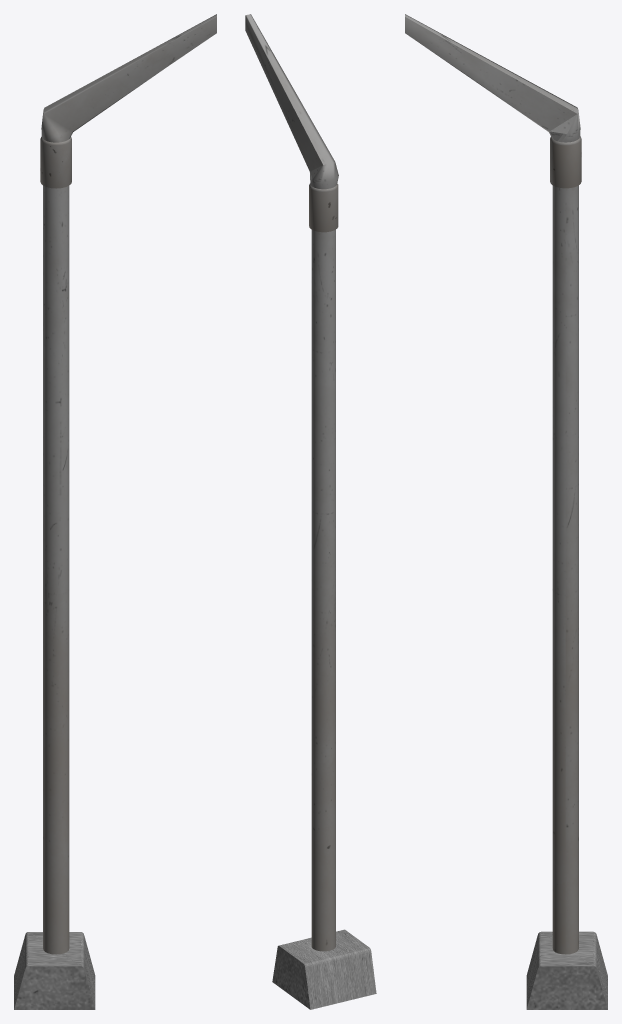
The model's file is chain_singlepost_curb_barbwire.fbx.
3 views of the same model, side by side, from view 1: azimuth 90°, elevation 25°; view 2: azimuth 210°, elevation 25°; view 3: azimuth 270°, elevation 25° (orthographic). The views are drawn at different scales.
Parts seen in each view (by area): view 1: chain_singlepost_curb_barbwire; view 2: chain_singlepost_curb_barbwire; view 3: chain_singlepost_curb_barbwire.
Boxes of the visible parts, x1,y1,x2,y2 form: chain_singlepost_curb_barbwire: [14, 14, 216, 1009]; chain_singlepost_curb_barbwire: [245, 14, 376, 1009]; chain_singlepost_curb_barbwire: [405, 14, 607, 1009].
Bounding box in the file's own units: 0.2 × 2.65 × 0.499.
1 material, 1 textured.
